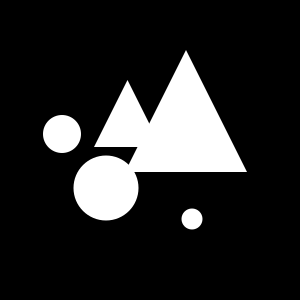rectangle: (74, 156, 138, 221), (43, 115, 81, 153), (182, 208, 202, 230)
triangle: (125, 50, 247, 172), (94, 80, 161, 147)
